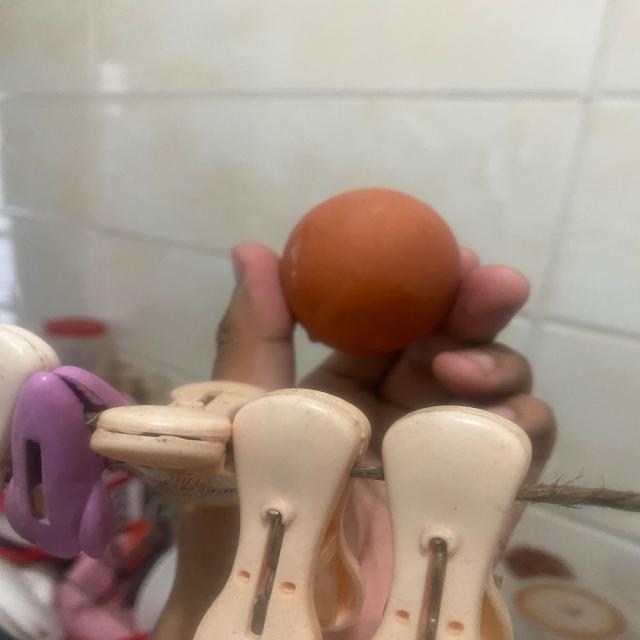Egg: (276, 183, 465, 360)
